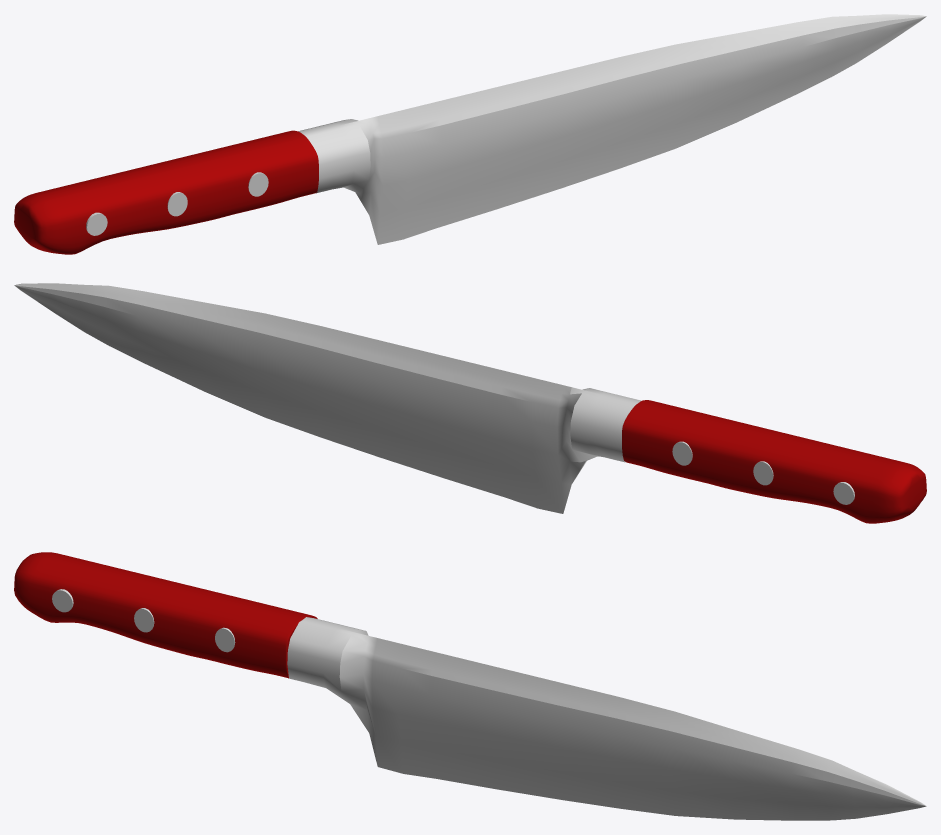
Rendered from Knife.fbx.
3 views of the same model, one above another, from view 1: azimuth 30°, elevation 25°; view 2: azimuth 150°, elevation 25°; view 3: azimuth 330°, elevation 25° (orthographic).
Parts seen in each view (by area): view 1: blade, handle; view 2: blade, handle; view 3: blade, handle.
Part boxes in pixels (left/top/right/bottom): blade: left=298, top=14, right=926, bottom=244; handle: left=14, top=130, right=318, bottom=254; blade: left=14, top=283, right=641, bottom=513; handle: left=622, top=400, right=926, bottom=523; blade: left=287, top=617, right=926, bottom=820; handle: left=14, top=552, right=317, bottom=678.
Size of the model in its own units: 3.87 by 0.534 by 0.2597.
